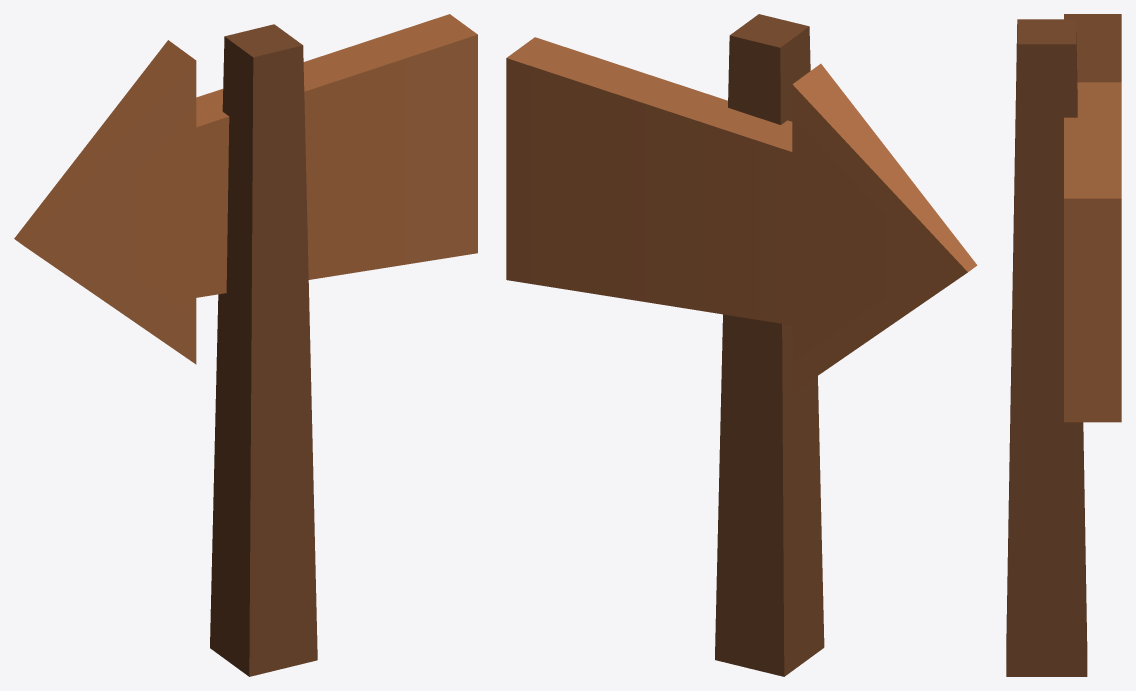
The model's file is arrow.glb.
The picture shows the model from 3 angles, left to right: view 1: azimuth 30°, elevation 25°; view 2: azimuth 150°, elevation 25°; view 3: azimuth 270°, elevation 25°; orthographic projection. The views are drawn at different scales.
Visible parts, largest first — view 1: arrow; view 2: arrow; view 3: arrow.
Part boxes in pixels (box(x1,y1,x2,y2)): arrow: box(14, 14, 477, 676); arrow: box(506, 14, 977, 676); arrow: box(1006, 14, 1121, 676).
Bounding box in the file's own units: 0.4557 × 0.6 × 0.0998.
